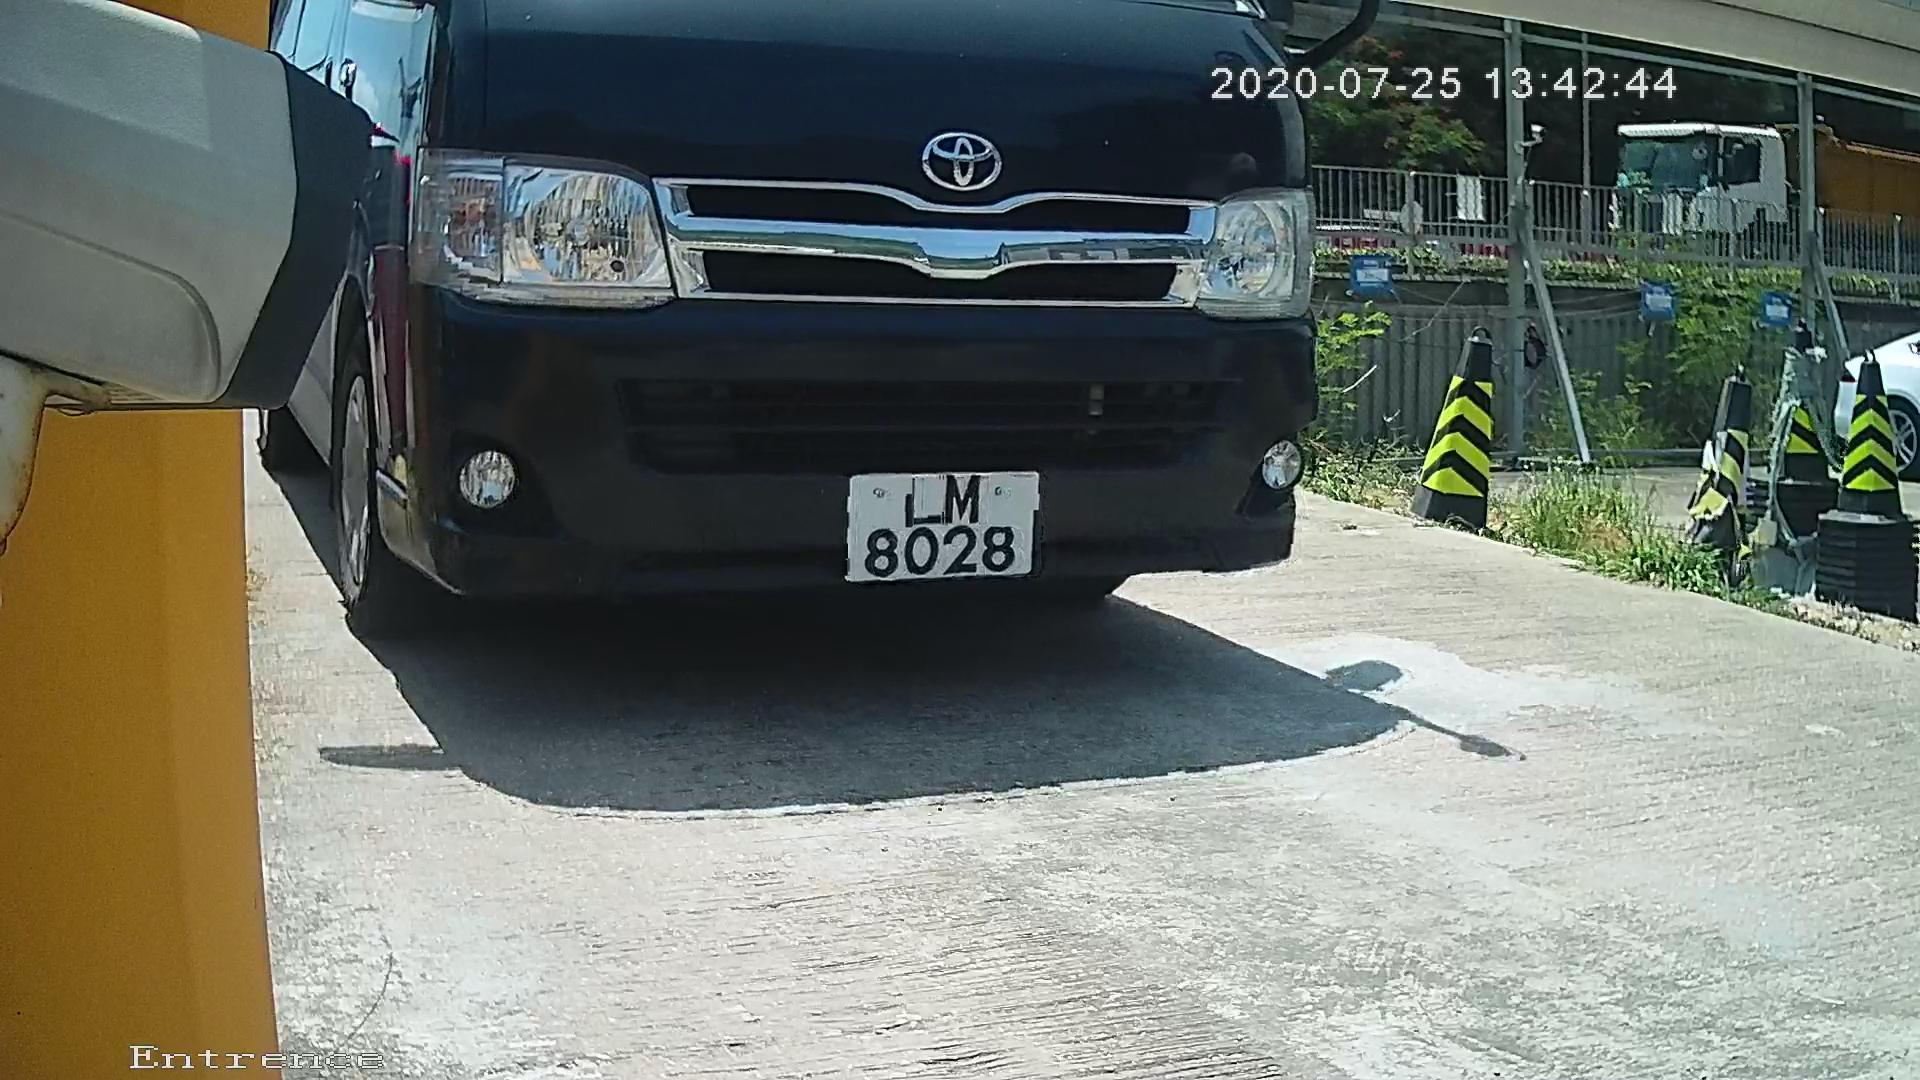Car: (61, 10, 1415, 743)
License Plate: (823, 468, 1055, 594)
